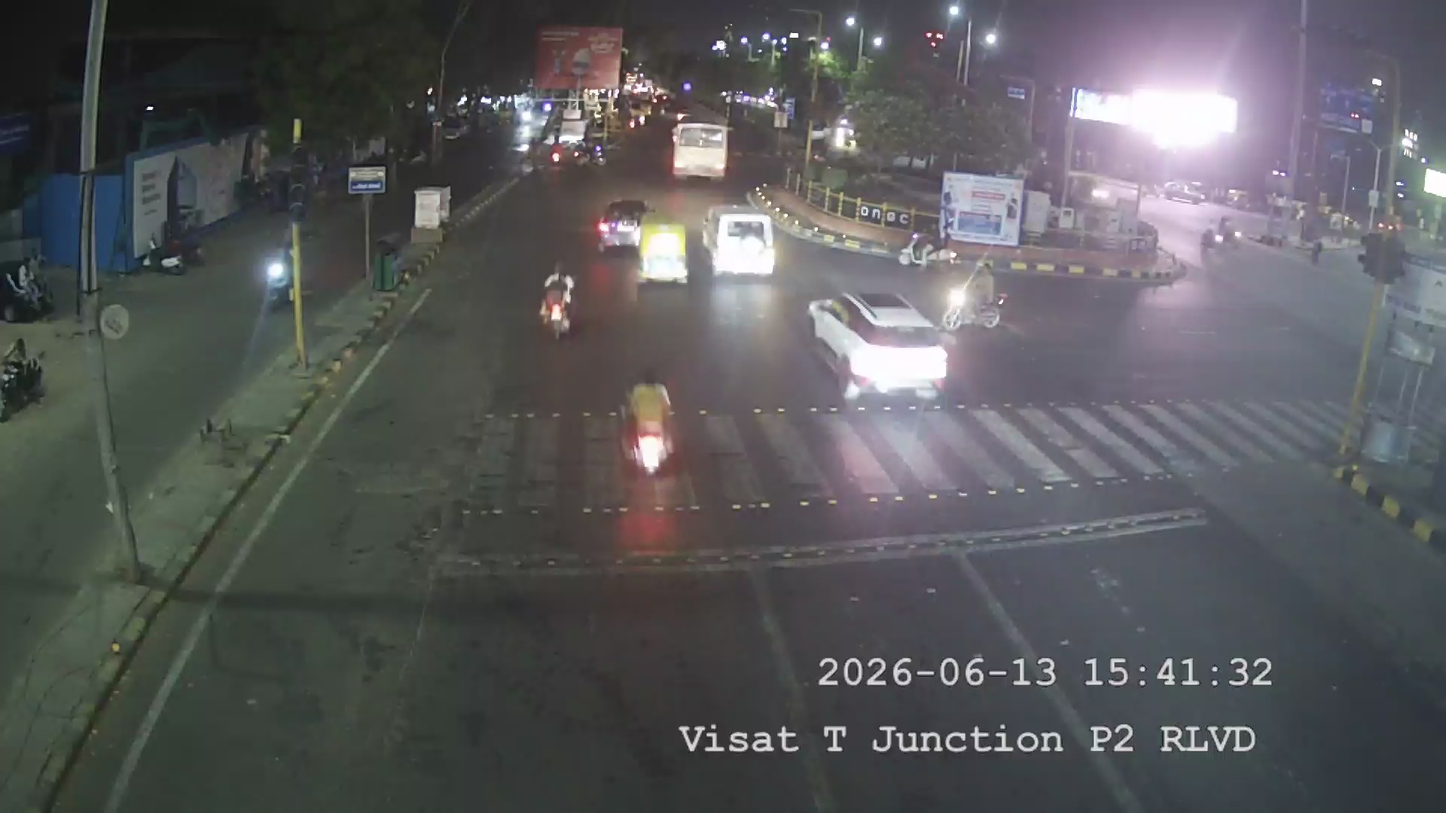auto_rickshaw: (634, 217, 691, 285), (593, 195, 649, 256)
bus: (667, 115, 732, 182)
car: (802, 288, 955, 401), (705, 203, 780, 281)
two_wheeler: (619, 374, 680, 479), (937, 258, 1011, 333), (0, 331, 49, 424), (255, 230, 304, 308), (535, 261, 581, 343), (895, 226, 960, 268)
